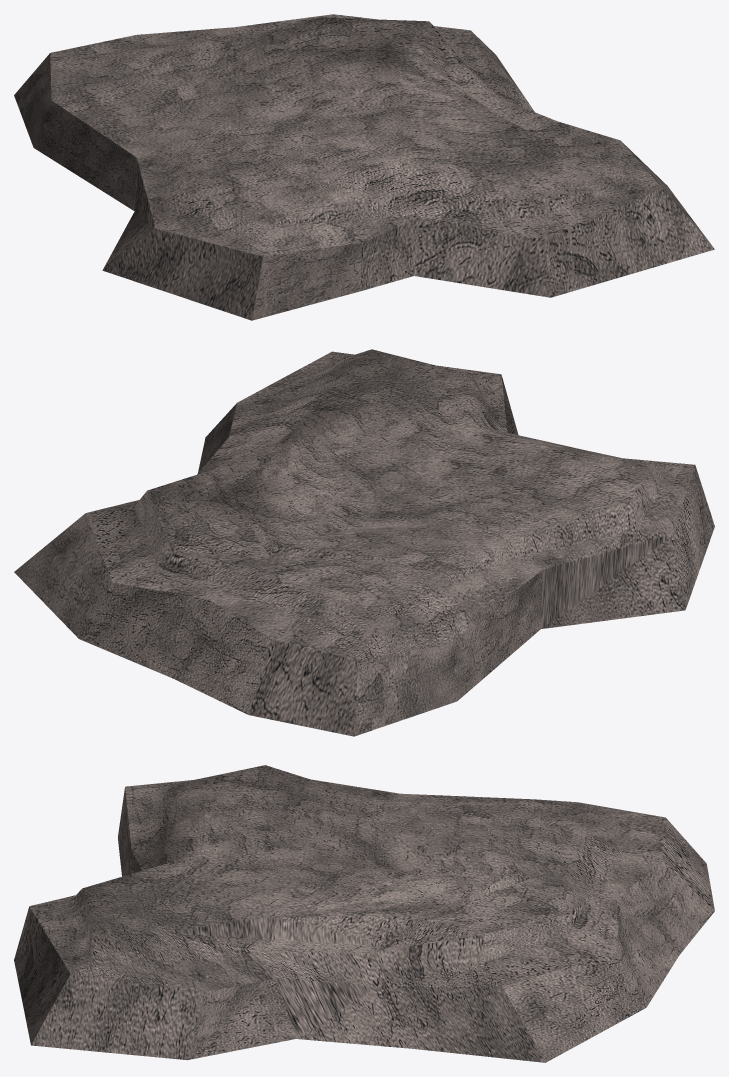
The model's file is FlatRock3.FBX.
3 views of the same model, one above another, from view 1: azimuth 30°, elevation 25°; view 2: azimuth 150°, elevation 25°; view 3: azimuth 270°, elevation 25° (orthographic). The views are drawn at different scales.
Visible parts, largest first — view 1: FlatRock3; view 2: FlatRock3; view 3: FlatRock3.
Boxes of the visible parts, <box> form: FlatRock3: <box>14,14,714,320</box>; FlatRock3: <box>14,349,714,736</box>; FlatRock3: <box>14,765,714,1062</box>.
Bounding box in the file's own units: 104 × 15.3 × 120.
Materials: 1 (1 with a texture image).
